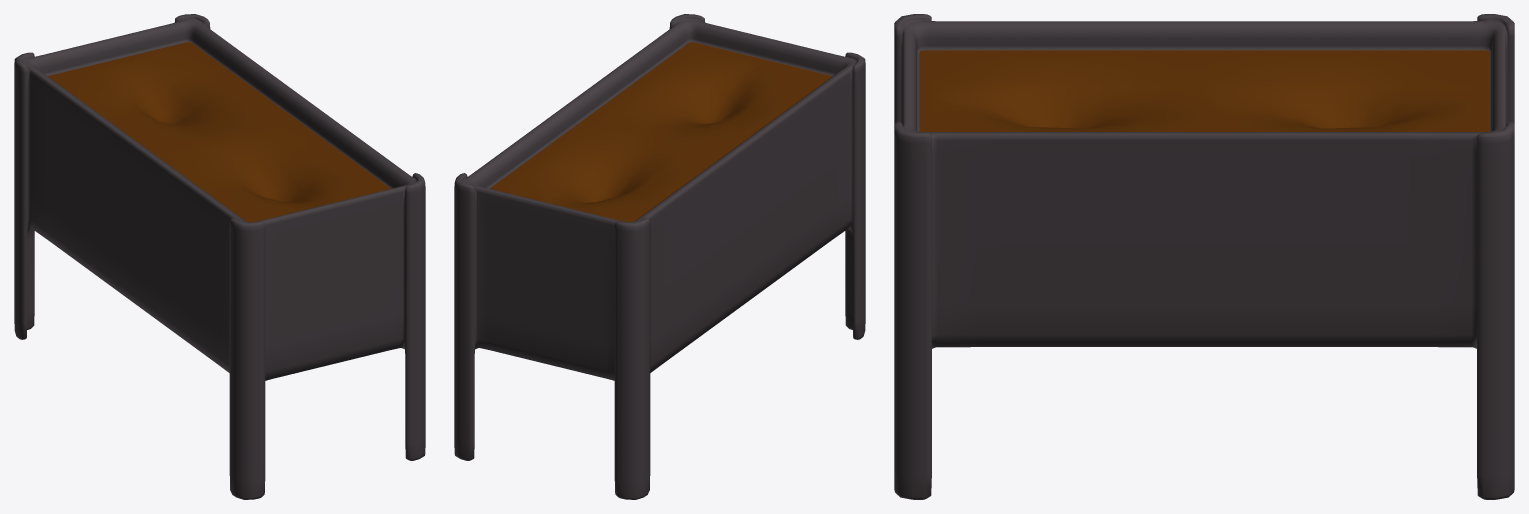
The model's file is planterbox hole.fbx.
3 views of the same model, side by side, from view 1: azimuth 30°, elevation 25°; view 2: azimuth 150°, elevation 25°; view 3: azimuth 270°, elevation 25° (orthographic). The views are drawn at different scales.
Visible parts, largest first — view 1: planterbox hole; view 2: planterbox hole; view 3: planterbox hole.
Boxes of the visible parts, <box> form: planterbox hole: <box>14,14,425,499</box>; planterbox hole: <box>454,14,865,499</box>; planterbox hole: <box>894,14,1514,499</box>.
Bounding box in the file's own units: 46.87 × 65.32 × 101.
